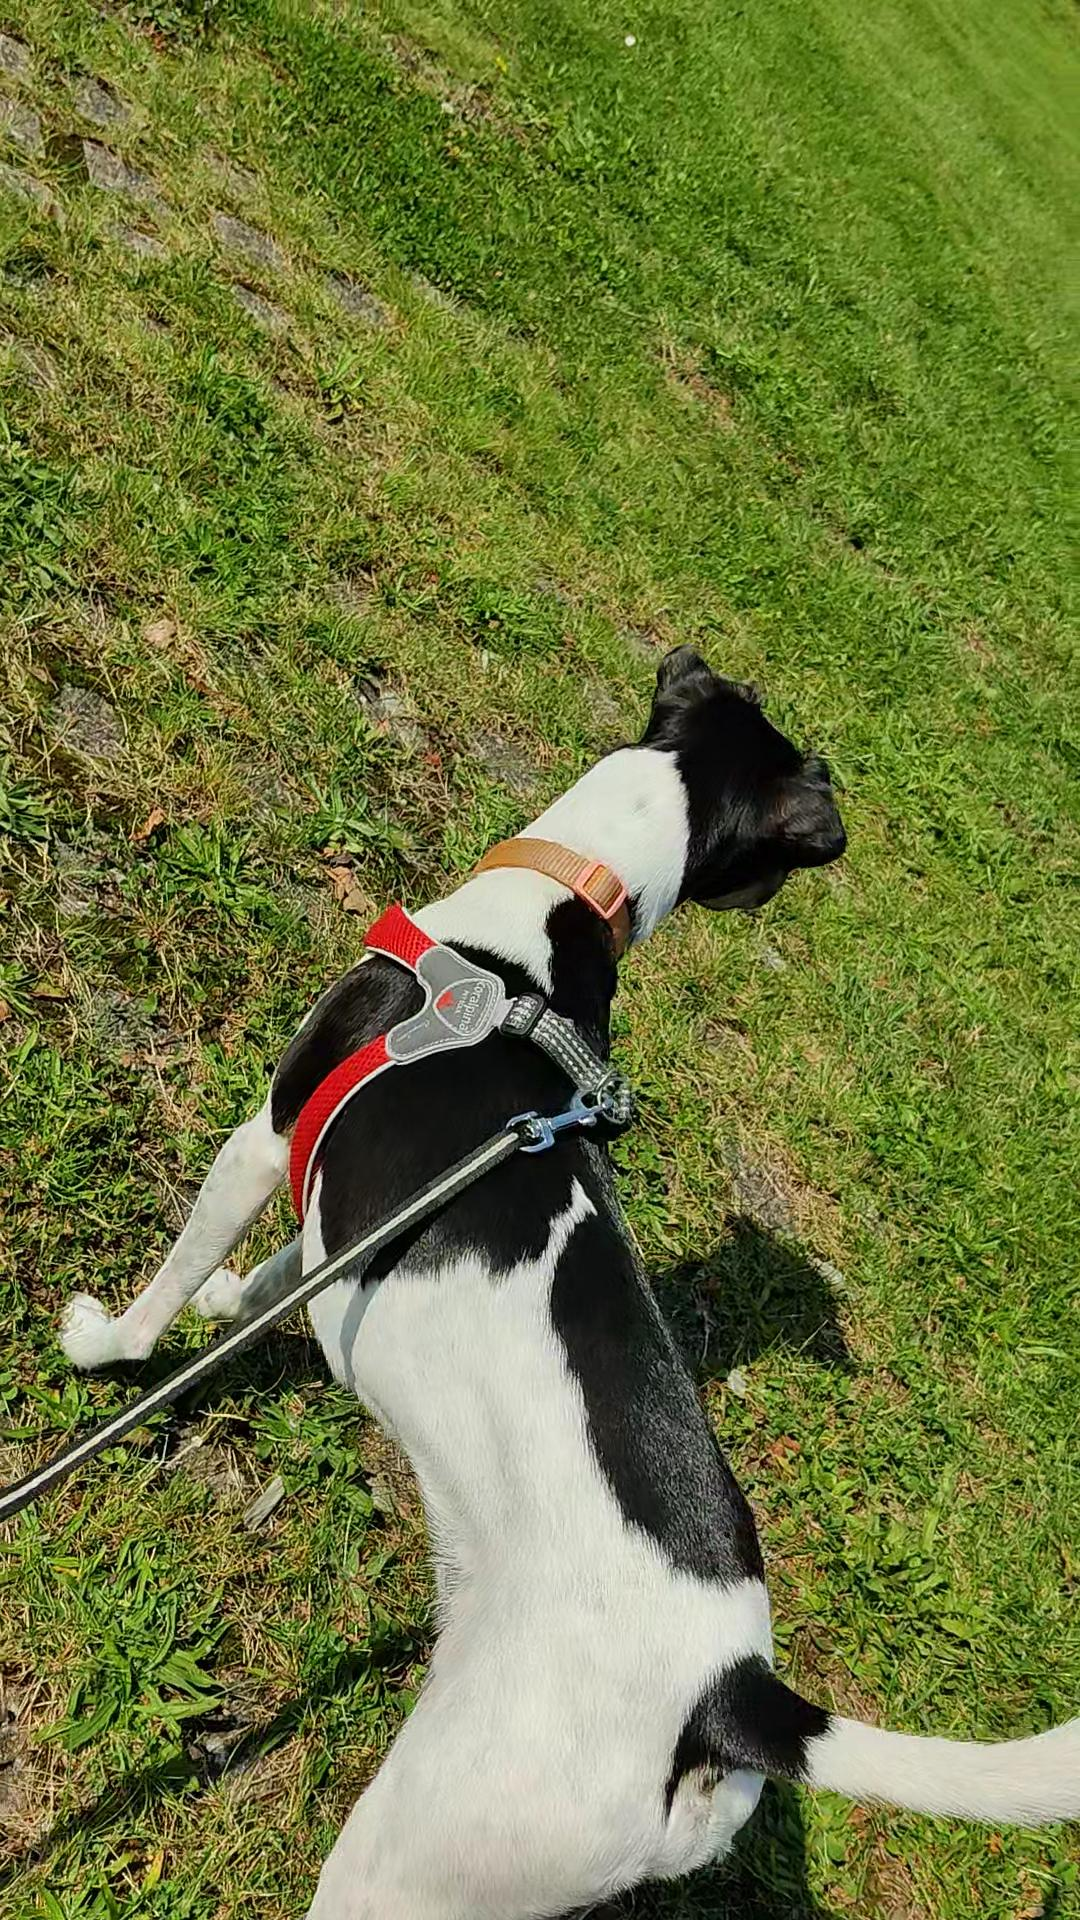Dog: (55, 644, 1079, 1919)
